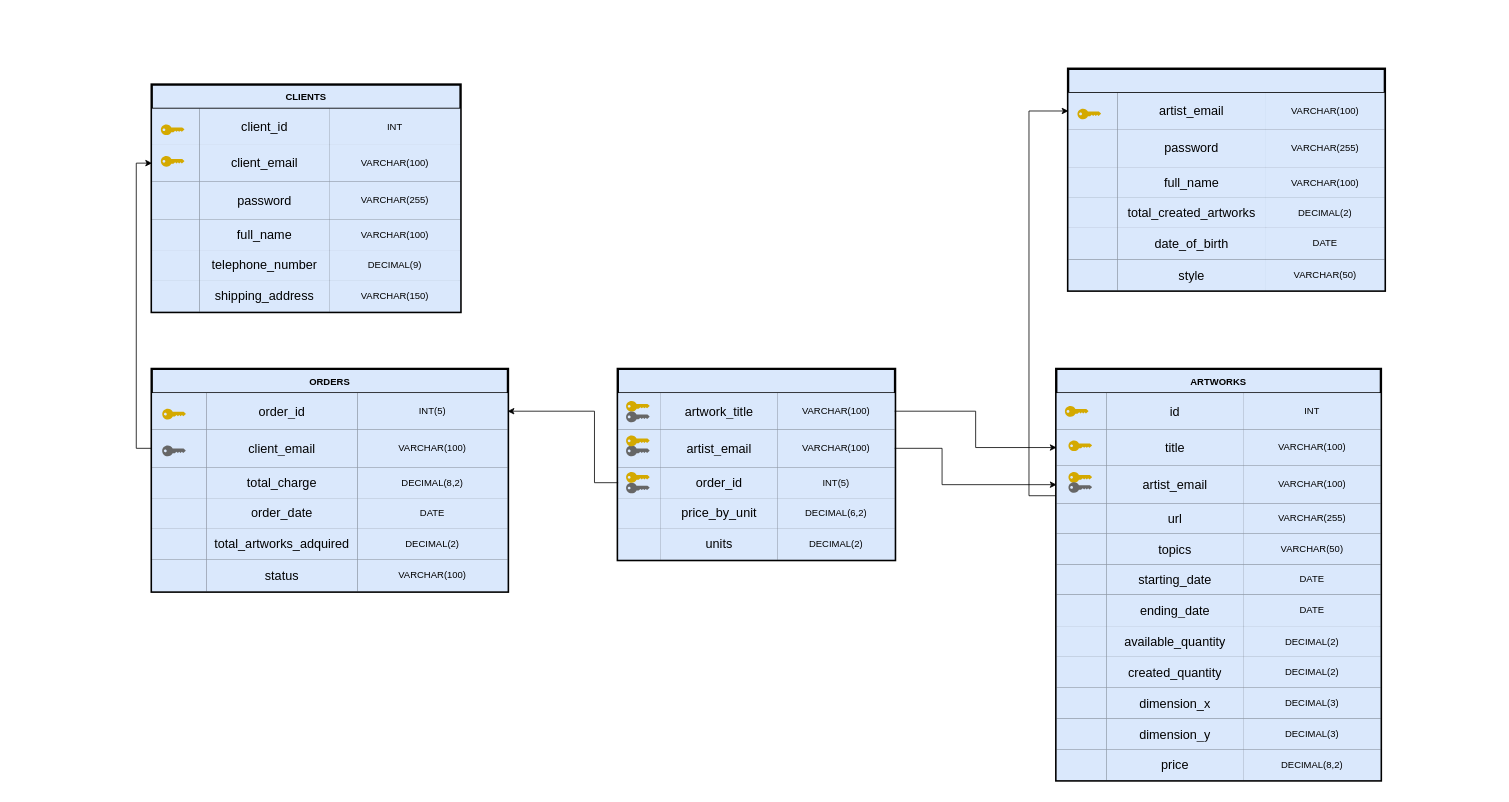
Some shapes in this 1509 by 802 pixel diagram are drawn without their labels. Here are the shapes that lost their labels. From the top down, the box of each, then its label:
(1067, 68, 1385, 291): ARTISTS
(617, 368, 895, 560): PURCHASED_ARTWORKS
